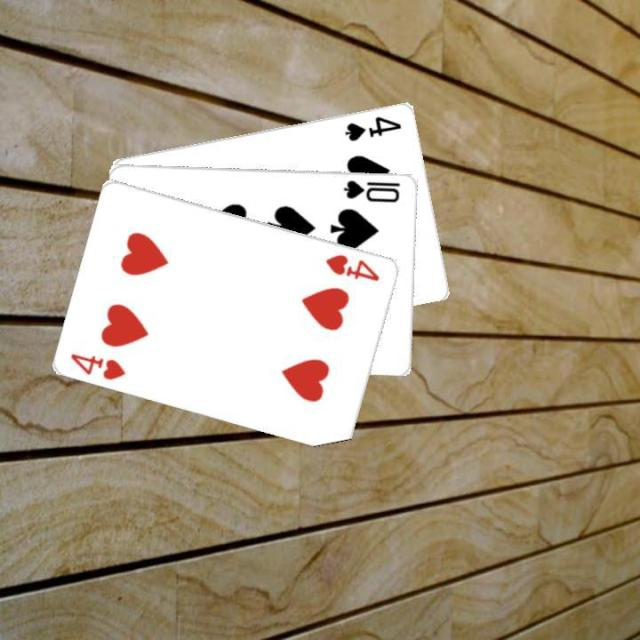10S: (340, 175, 402, 204)
4H: (67, 348, 128, 382), (322, 250, 382, 282)
4S: (342, 111, 404, 143)
